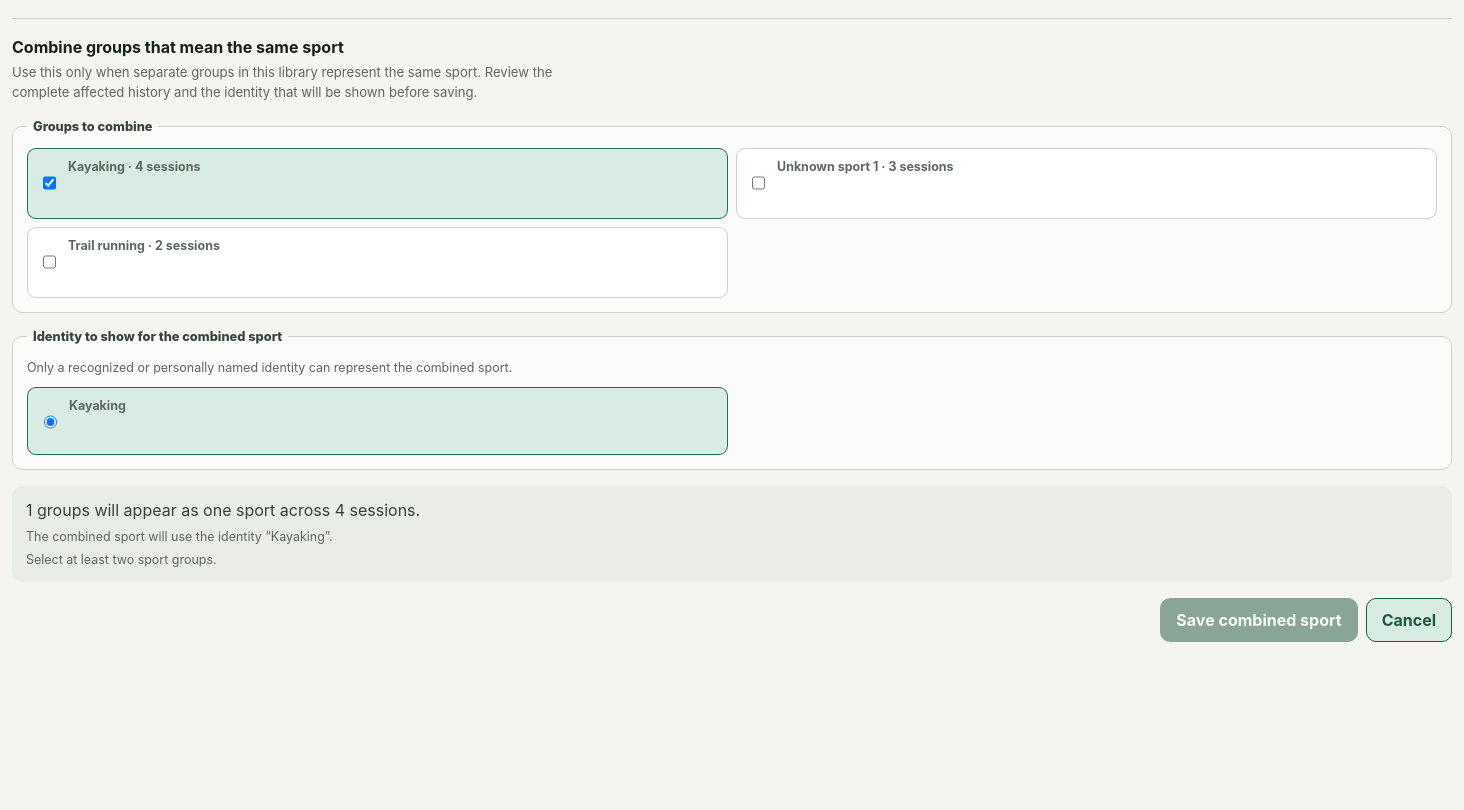
Test case: SportUnificationTask › keeps the draft when a concurrent change reloads the current collections
The image size is (1464, 810).
Step 1. Click the checkbox labelled "Unknown sport 1 · 3 sessions" → (758, 183), box [752, 161, 765, 205]
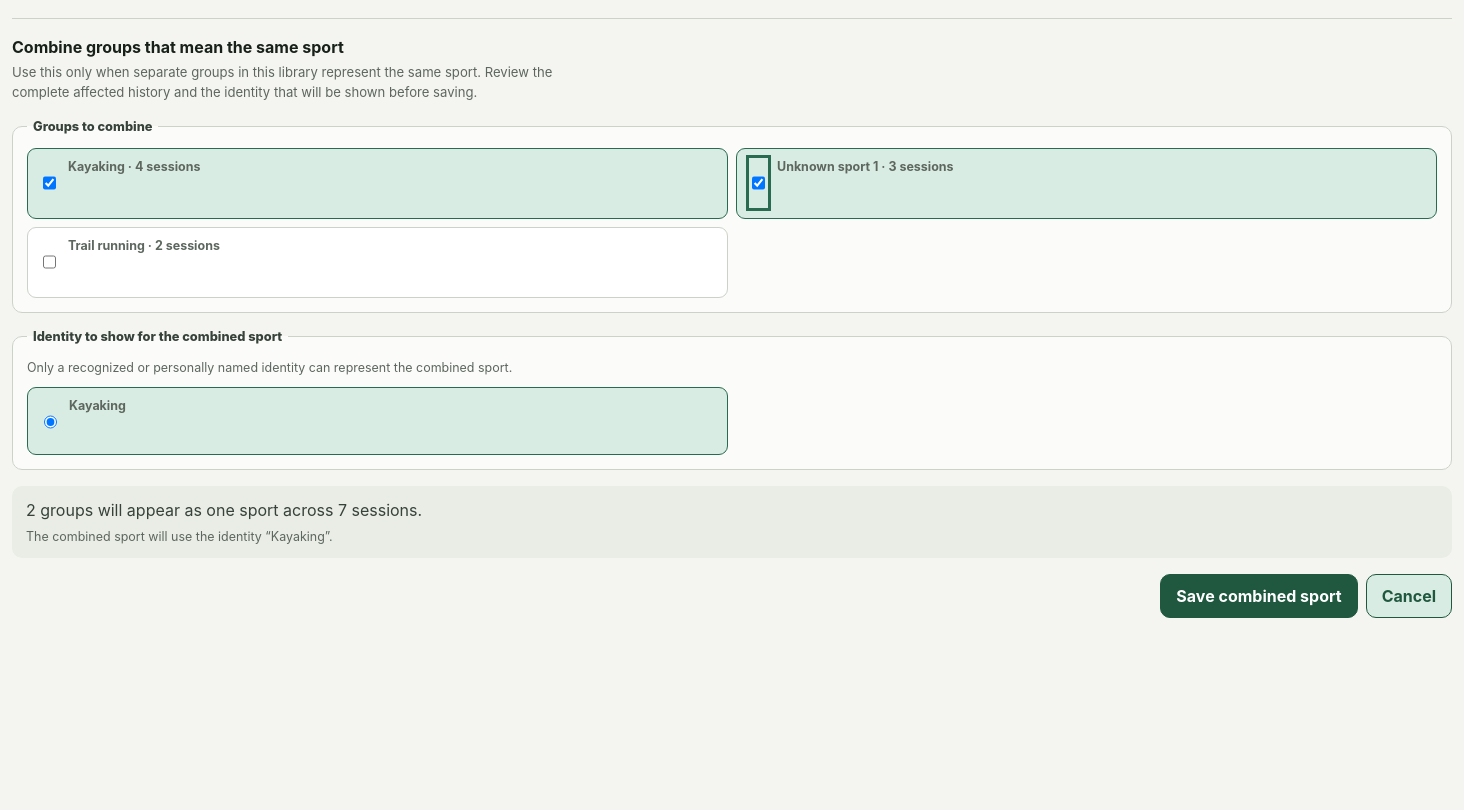
Step 2. Click the button "Save combined sport" → (1259, 596), box [1160, 574, 1358, 618]
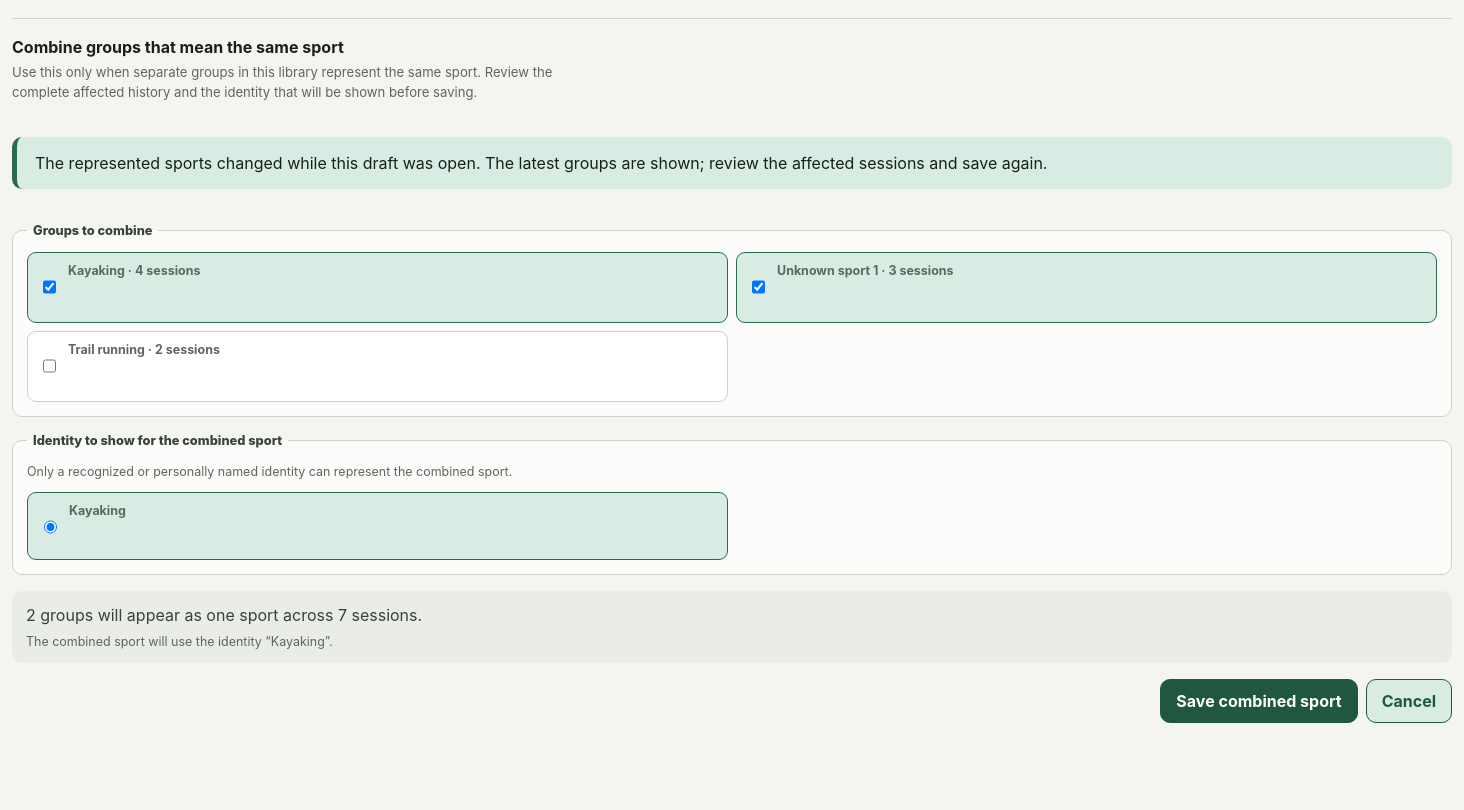
Now the checkbox labelled "Unknown sport 1 · 3 sessions" is checked, box [752, 266, 765, 310]
Now the message shows "The represented sports changed while this draft was open.", box [35, 153, 1048, 173]
